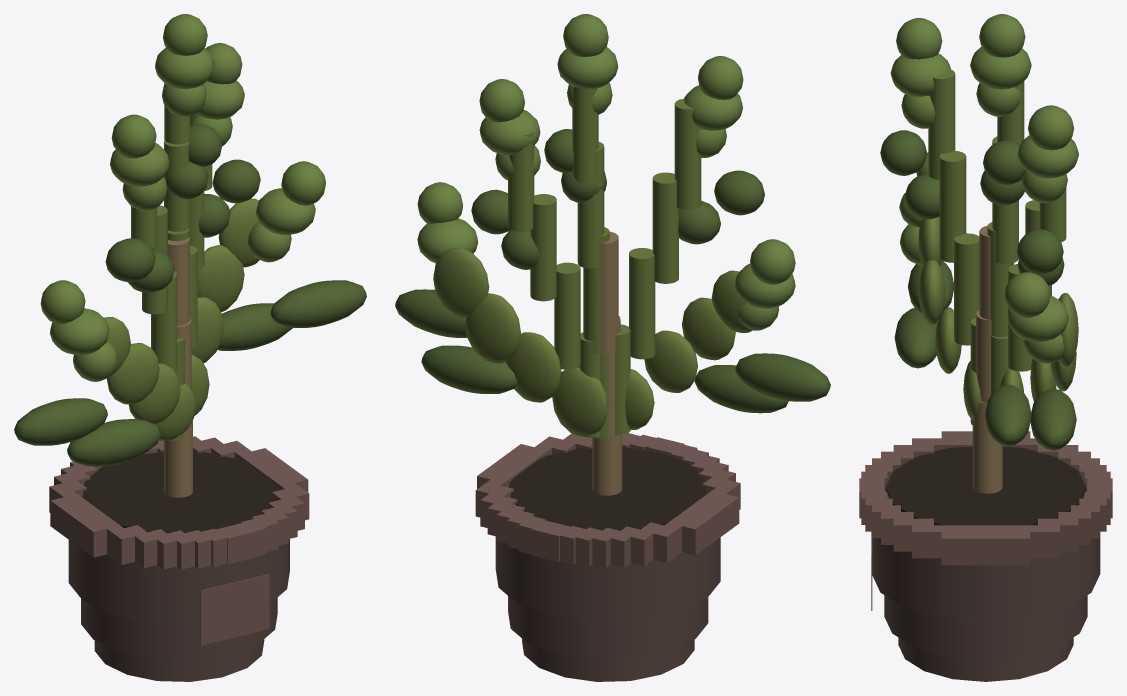
Rendered from CMU3DPottedPlant5.glb.
3 views of the same model, side by side, from view 1: azimuth 30°, elevation 25°; view 2: azimuth 150°, elevation 25°; view 3: azimuth 270°, elevation 25° (orthographic). The views are drawn at different scales.
Visible parts, largest first — view 1: tapered leaf blade (×25), branch (×18), recessed soil, hollow curved planter rim (×11), upper pot wall, lower tapered pot wall, pot front highlight, narrow pot foot; view 2: branch (×22), tapered leaf blade (×22), upper pot wall, recessed soil, hollow curved planter rim (×8), lower tapered pot wall, narrow pot foot; view 3: tapered leaf blade (×22), branch (×20), upper pot wall, recessed soil, hollow curved planter rim (×11), lower tapered pot wall, narrow pot foot.
Boxes of the visible parts, x1,y1,x2,y2 form: tapered leaf blade (×25): [14, 14, 366, 466]; branch (×18): [104, 83, 259, 497]; recessed soil: [82, 451, 276, 533]; hollow curved planter rim (×11): [49, 441, 309, 569]; upper pot wall: [68, 539, 289, 623]; lower tapered pot wall: [81, 597, 277, 660]; pot front highlight: [200, 574, 269, 645]; narrow pot foot: [94, 639, 264, 681]; branch (×22): [433, 86, 752, 495]; tapered leaf blade (×22): [395, 14, 830, 413]; upper pot wall: [495, 536, 720, 622]; recessed soil: [509, 447, 706, 530]; hollow curved planter rim (×8): [475, 436, 740, 567]; lower tapered pot wall: [508, 596, 708, 659]; narrow pot foot: [522, 639, 694, 681]; tapered leaf blade (×22): [880, 14, 1078, 450]; branch (×20): [918, 69, 1078, 493]; upper pot wall: [871, 494, 1100, 622]; recessed soil: [885, 447, 1086, 525]; hollow curved planter rim (×11): [865, 438, 1106, 565]; lower tapered pot wall: [884, 595, 1087, 659]; narrow pot foot: [898, 637, 1073, 681].
Bounding box in the file's own units: 0.6702 × 1.02 × 0.3693.
